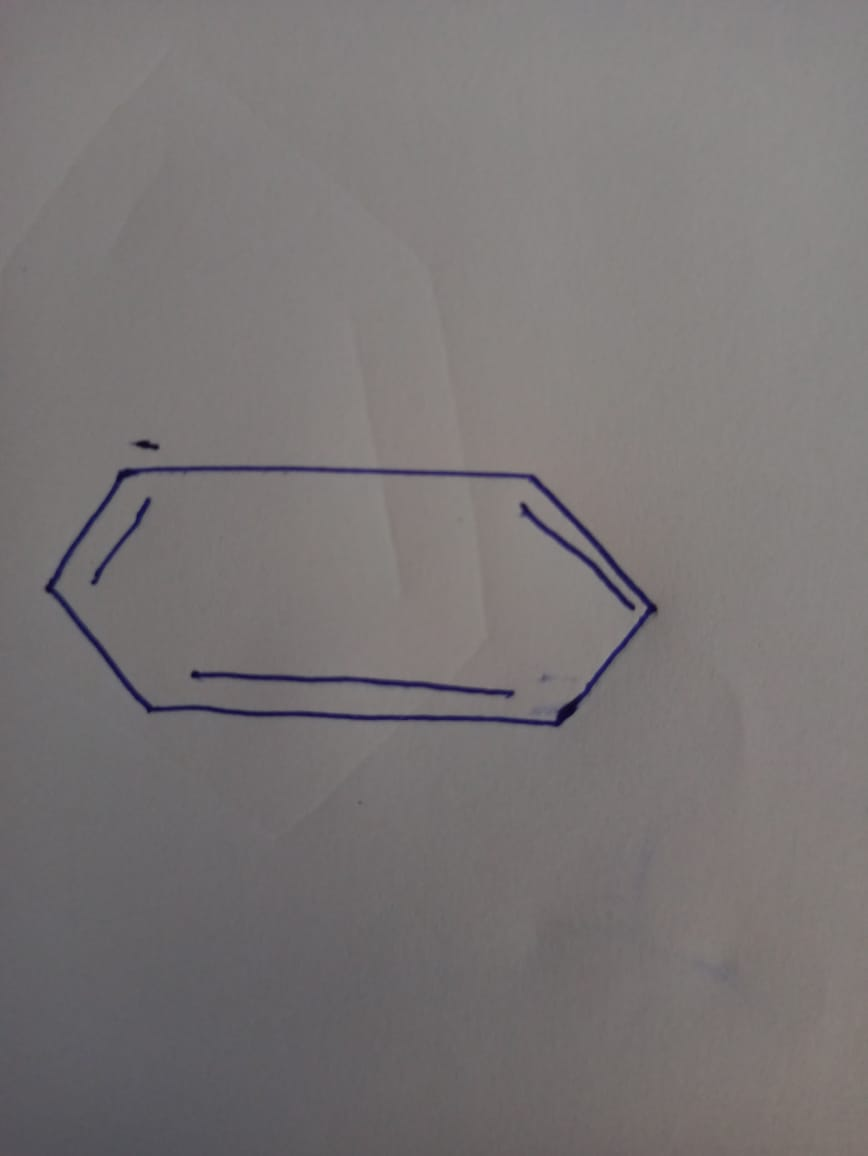shape_mask: (40, 460, 674, 742)
